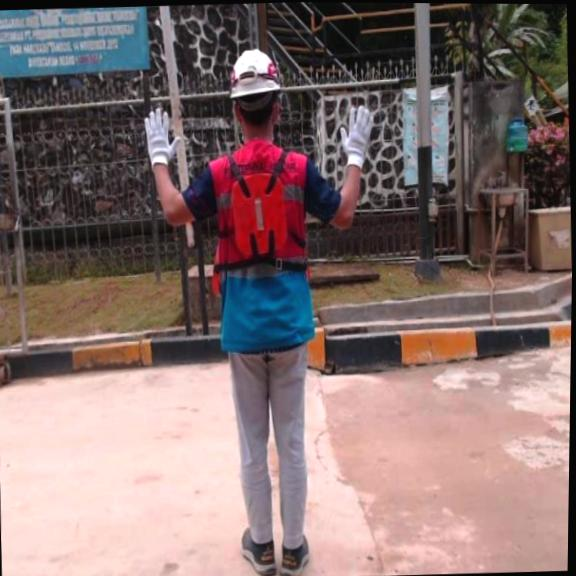safety_vest: (230, 167, 293, 259)
